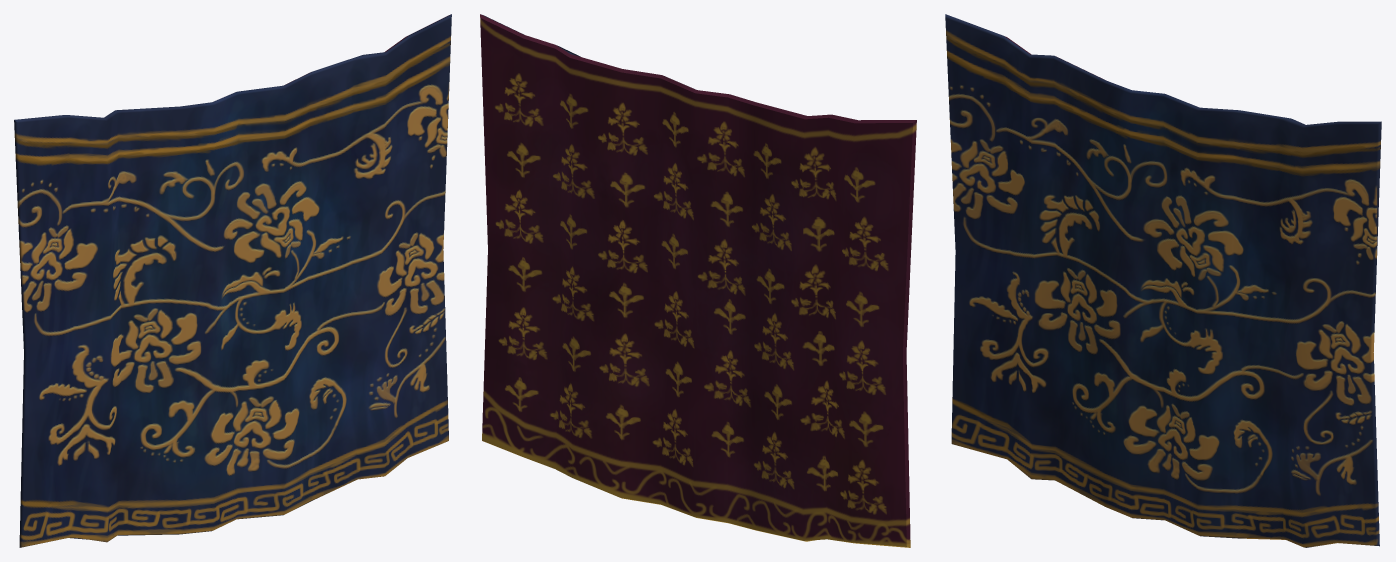
The model's file is Tapestry_Scaled.fbx.
3 views of the same model, side by side, from view 1: azimuth 30°, elevation 25°; view 2: azimuth 150°, elevation 25°; view 3: azimuth 330°, elevation 25° (orthographic).
Parts seen in each view (by area): view 1: Tapestry1; view 2: Tapestry1; view 3: Tapestry1.
Boxes of the visible parts, x1,y1,x2,y2 form: Tapestry1: (14, 14, 451, 547); Tapestry1: (480, 14, 916, 547); Tapestry1: (945, 14, 1381, 547).
Bounding box in the file's own units: 222 × 220 × 13.46.
